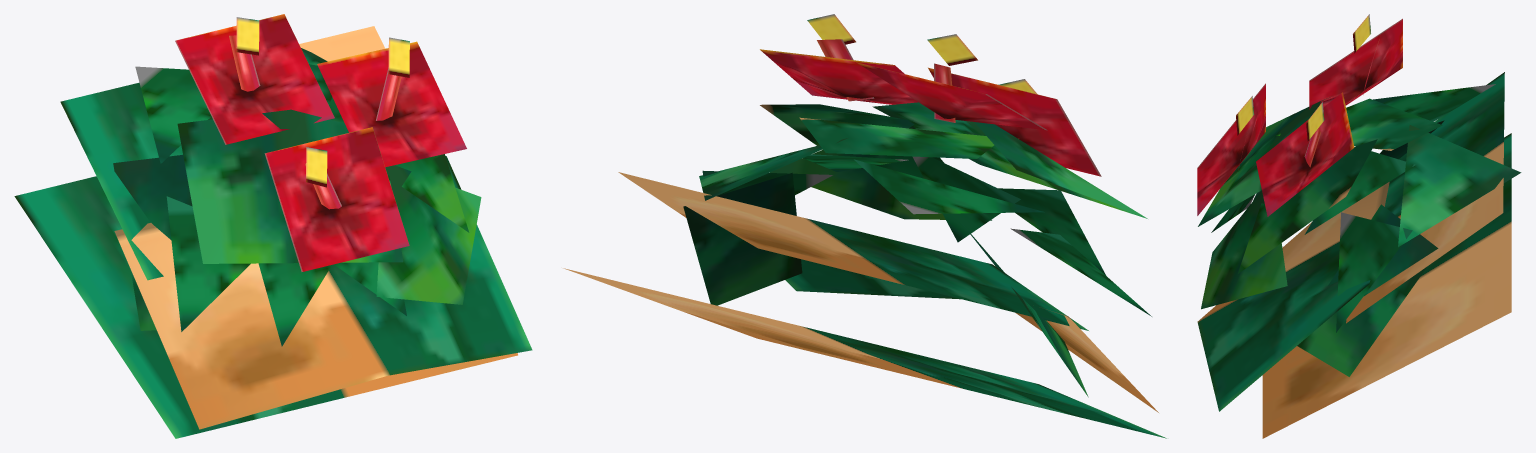
File: fg_bushD_2_re.dae
3 renders of one model, left to right at view 1: azimuth 30°, elevation 25°; view 2: azimuth 150°, elevation 25°; view 3: azimuth 270°, elevation 25°, orthographic. The views are drawn at different scales.
Parts seen in each view (by area): view 1: fg_bushD_2_re; view 2: fg_bushD_2_re; view 3: fg_bushD_2_re.
Boxes of the visible parts, x1,y1,x2,y2 form: fg_bushD_2_re: (14, 14, 532, 438); fg_bushD_2_re: (563, 14, 1166, 438); fg_bushD_2_re: (1197, 14, 1521, 438).
Bounding box in the file's own units: 47.83 × 40.3 × 36.53.
Materials: 1 (1 with a texture image).
